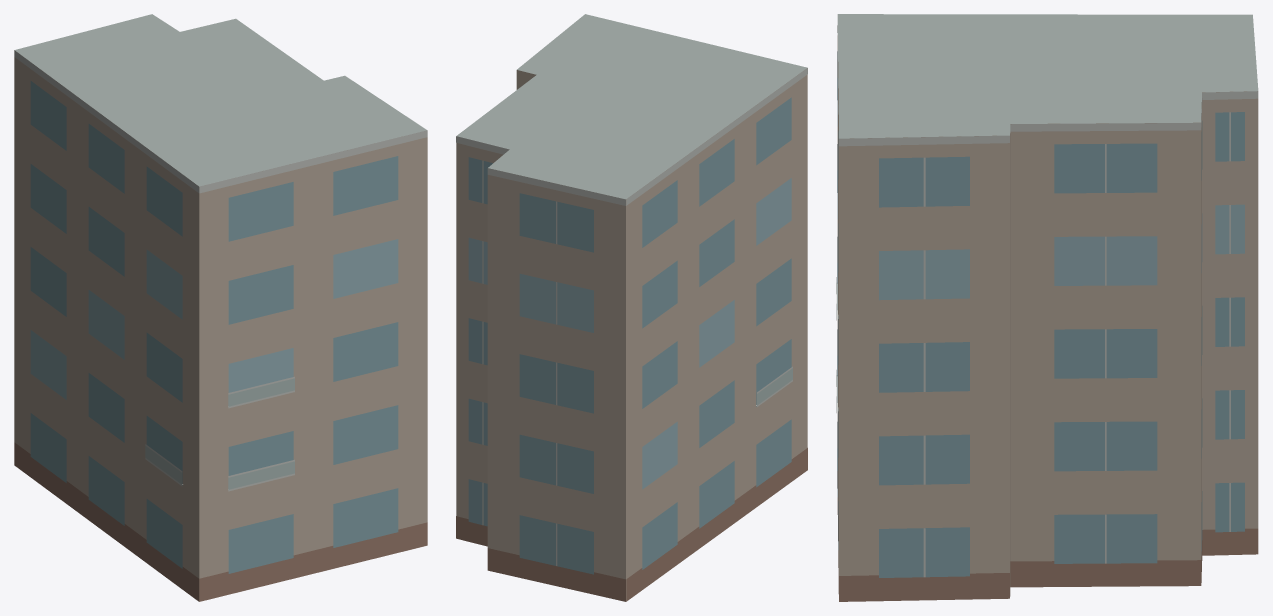
File: survey-upis-32737795.glb
3 renders of one model, left to right at view 1: azimuth 30°, elevation 25°; view 2: azimuth 150°, elevation 25°; view 3: azimuth 270°, elevation 25°, orthographic. The views are drawn at different scales.
Visible parts, largest first — view 1: survey-upis-32737795.tmp; view 2: survey-upis-32737795.tmp; view 3: survey-upis-32737795.tmp.
Part boxes in pixels (x1,y1,x2,y2): survey-upis-32737795.tmp: (14,14,427,601); survey-upis-32737795.tmp: (456,14,807,601); survey-upis-32737795.tmp: (836,14,1258,601).
Bounding box in the file's own units: 8.55 × 14.75 × 12.19.
